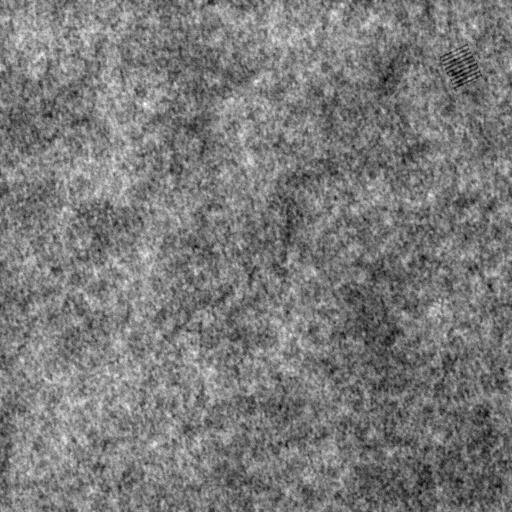impact: (438, 43, 486, 94)
